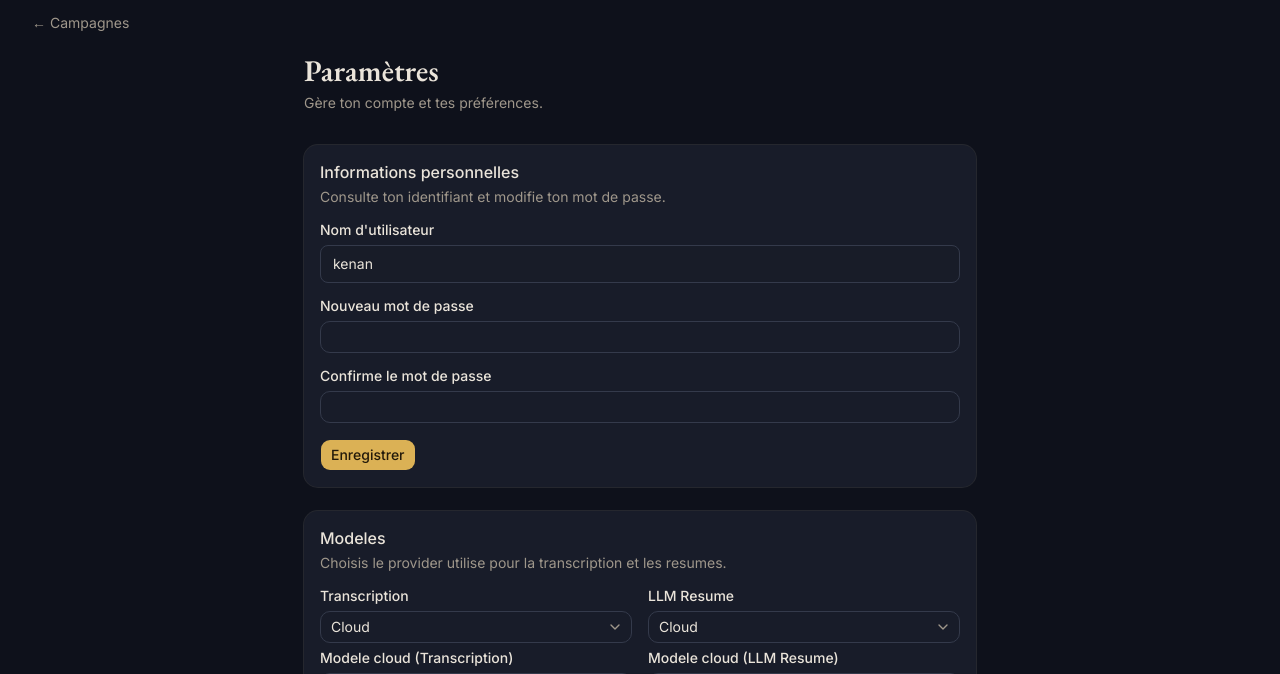
<SettingsPage> › settings modeles: echec de validation affiche l'erreur backend inline
The image size is (1280, 674).
Click the dropdown named "Transcription" at [350, 626], box [320,611,632,643]
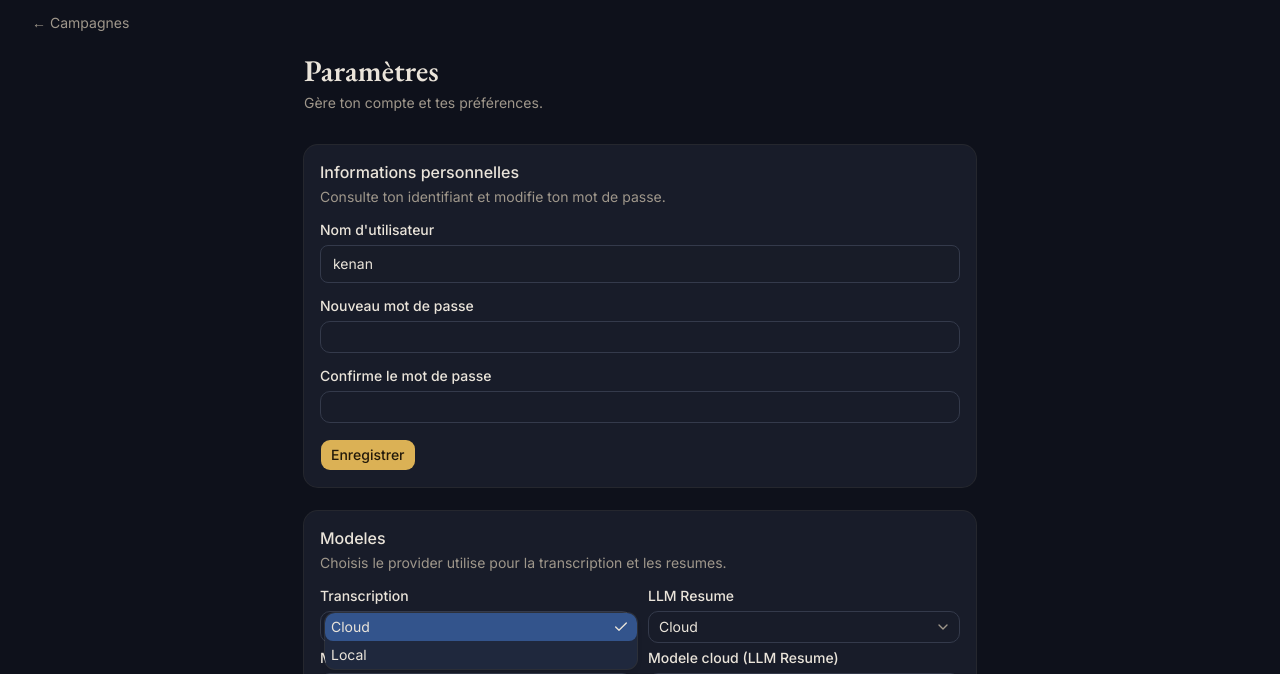
Click the option "Local" at [349, 654], box [331,646,367,663]
(page scrolled)
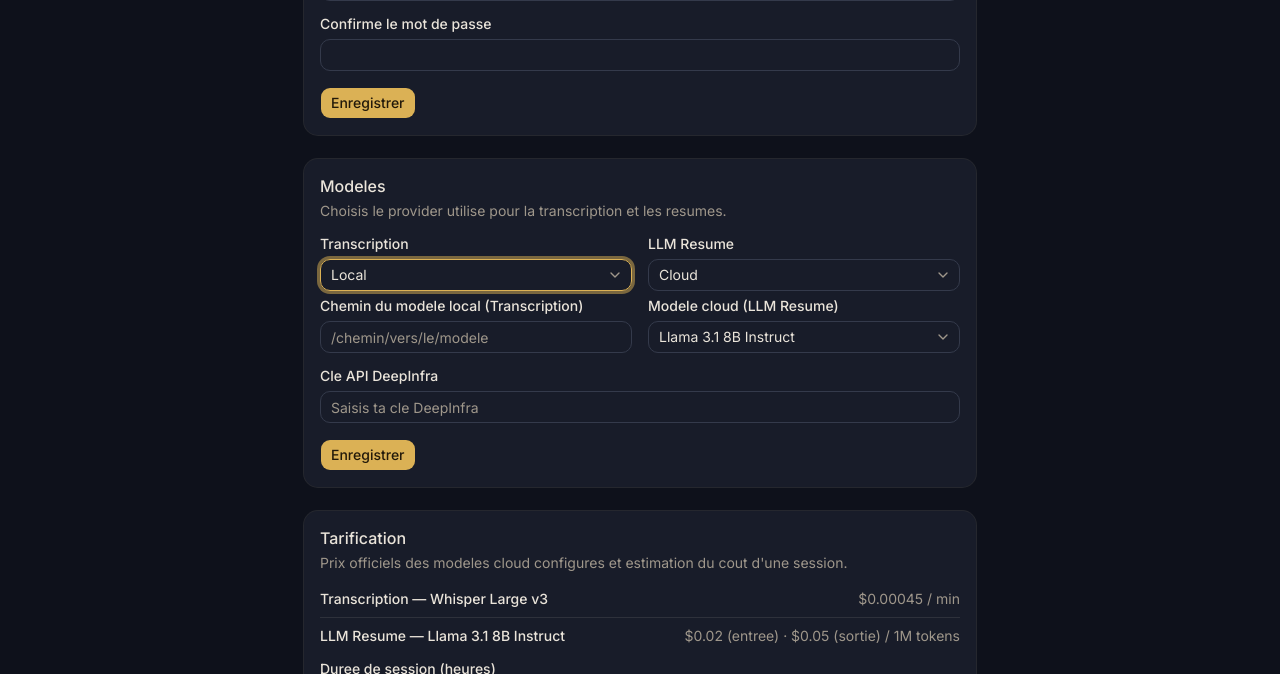
Type "/models/not-a-whisper" into the field labelled "Chemin du modele local (Transcription)" at [476, 337], box [320,321,632,353]
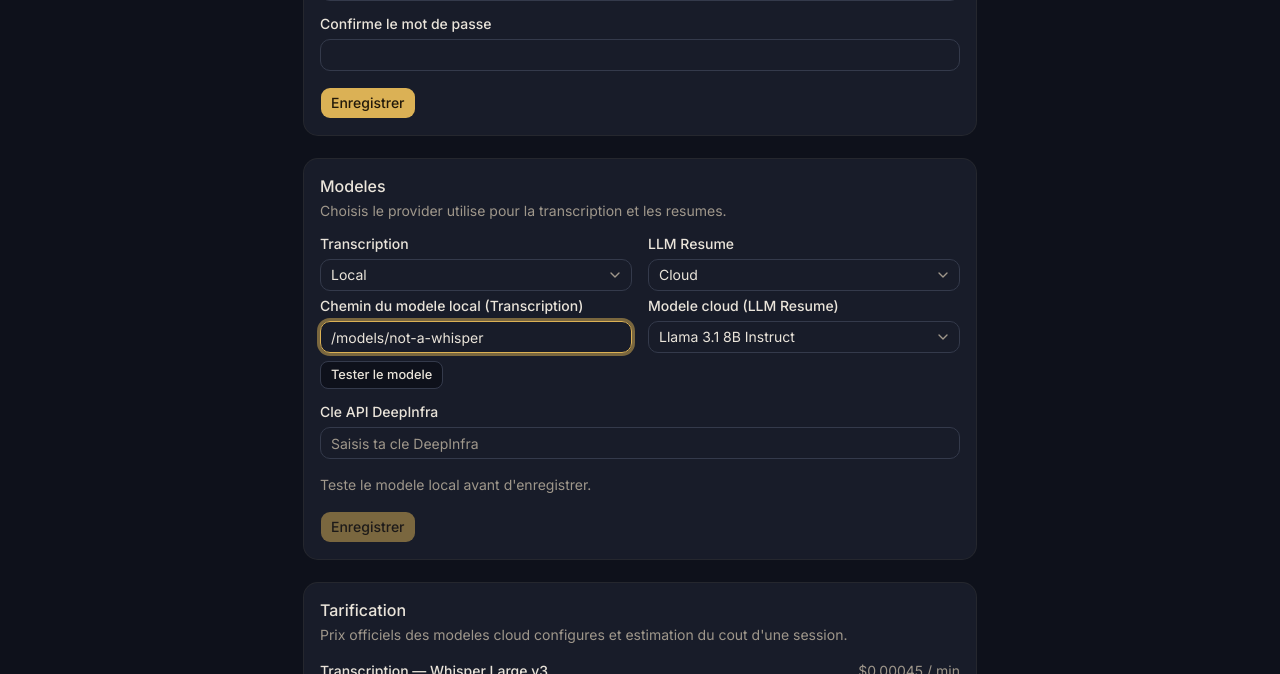
Click the button "Tester le modele" at [382, 375], box [320,361,443,389]
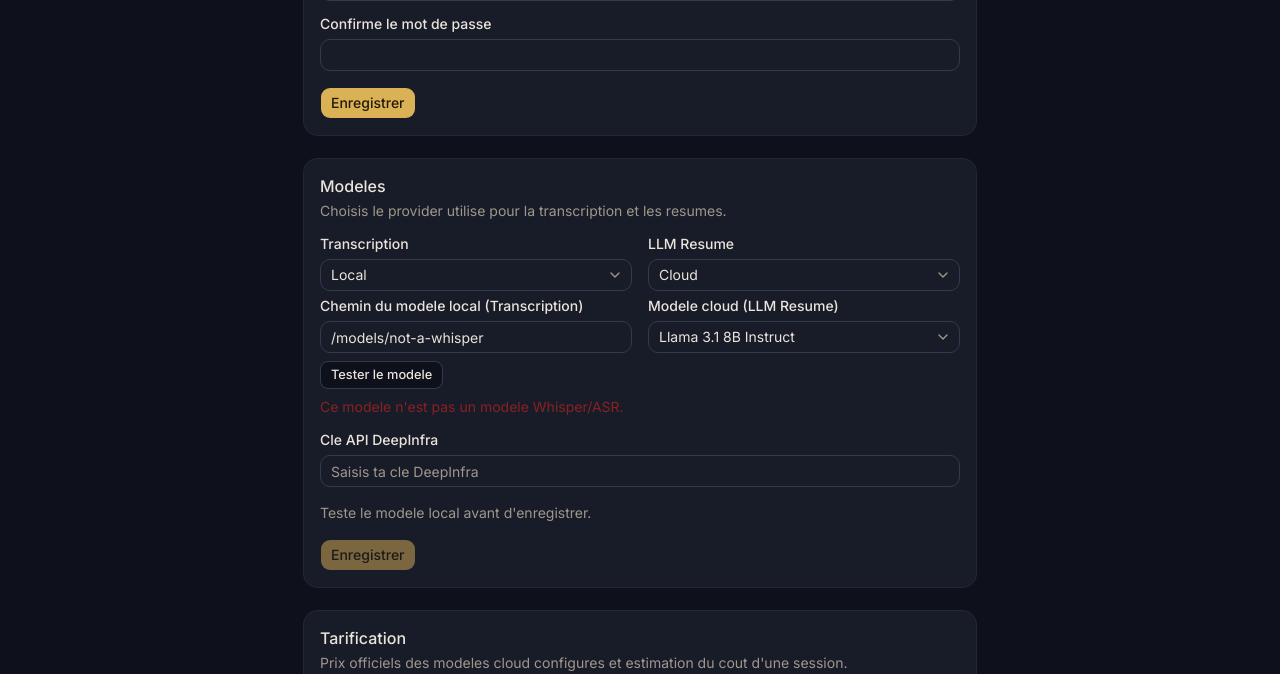
Expected: the button "Enregistrer" below "Cle API DeepInfra" is disabled, [320,539,416,571]
Expected: the text "Ce modele n'est pas un modele Whisper/ASR." is shown, [320,397,632,417]
